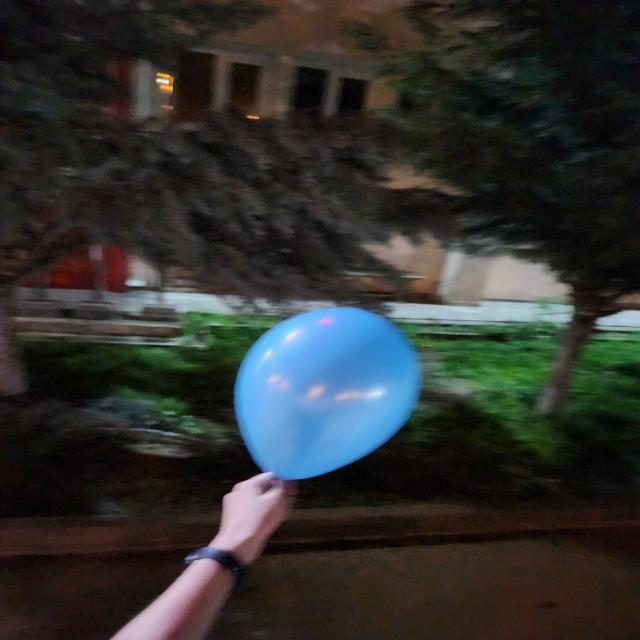blue: (233, 307, 424, 485)
